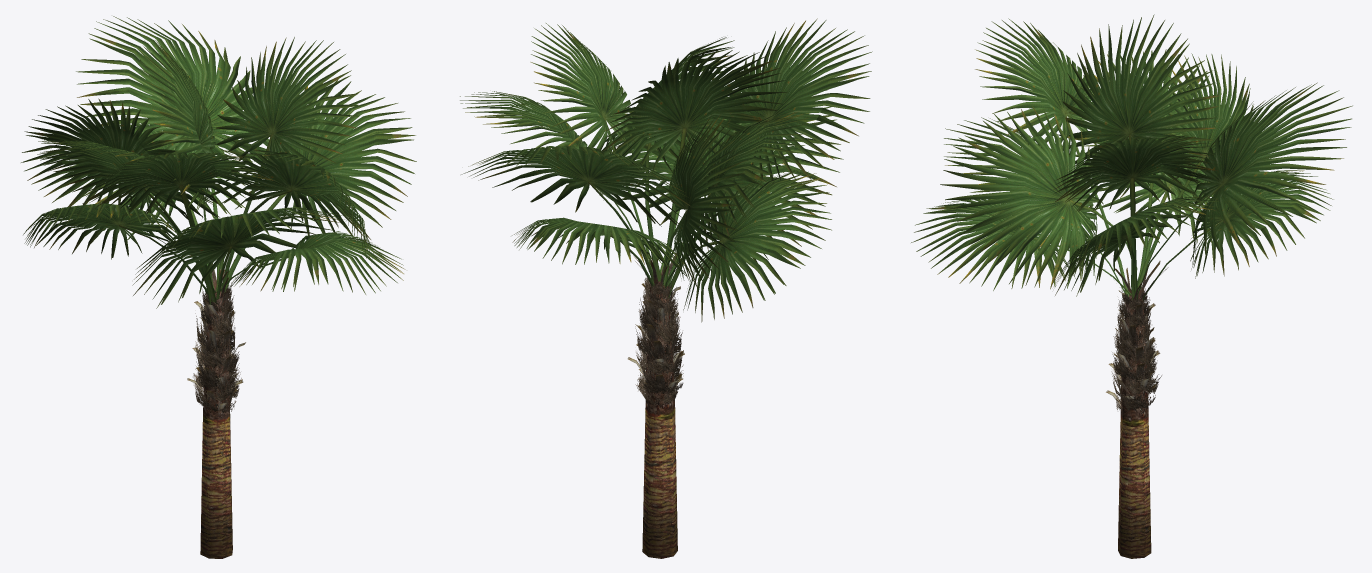
The model's file is MK4_WindmillPalm2.DAE.
3 renders of one model, left to right at view 1: azimuth 30°, elevation 25°; view 2: azimuth 150°, elevation 25°; view 3: azimuth 270°, elevation 25°, orthographic. The views are drawn at different scales.
Visible parts, largest first — view 1: MK4_WindmillPalm200, MK4_WindmillPalm100; view 2: MK4_WindmillPalm200, MK4_WindmillPalm100; view 3: MK4_WindmillPalm200, MK4_WindmillPalm100.
Boxes of the visible parts, x1,y1,x2,y2 form: MK4_WindmillPalm200: [21, 16, 415, 558]; MK4_WindmillPalm100: [22, 41, 416, 409]; MK4_WindmillPalm200: [460, 18, 872, 558]; MK4_WindmillPalm100: [463, 21, 868, 403]; MK4_WindmillPalm200: [911, 14, 1352, 558]; MK4_WindmillPalm100: [925, 22, 1323, 410].
Size of what is drawn, in the model's own units: 28.53 by 30.65 by 38.18.
